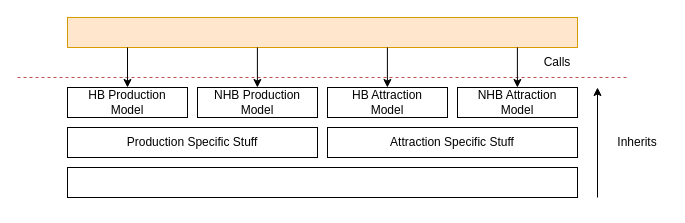
The diagram is 685 pixels wide and 223 high, and some of its shapes have lost their labels. Here are the shapes that lost their labels. From the top down, the centre of each, then its label:
the point at 322,32: Trip End Model
the point at 322,182: Trip End Pathing
